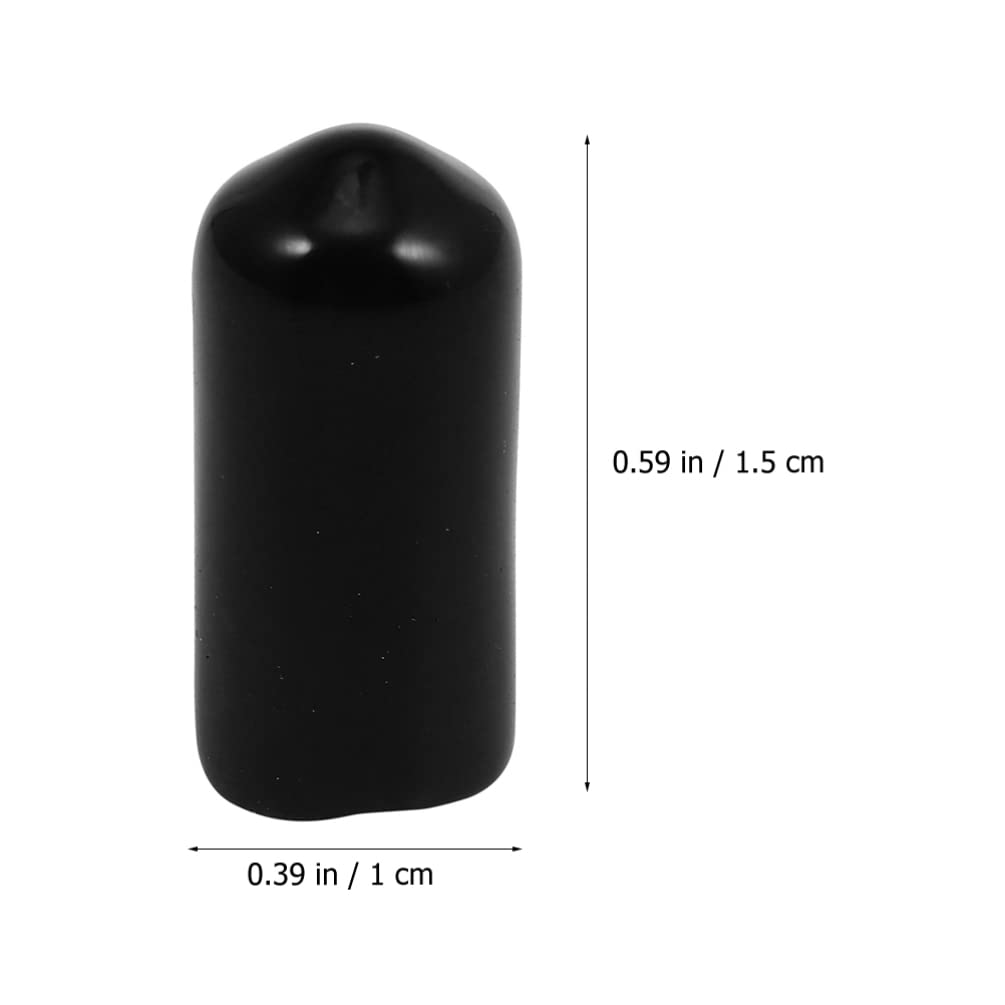0.39: (248, 863, 305, 886)
in/1cm: (317, 862, 432, 890)
